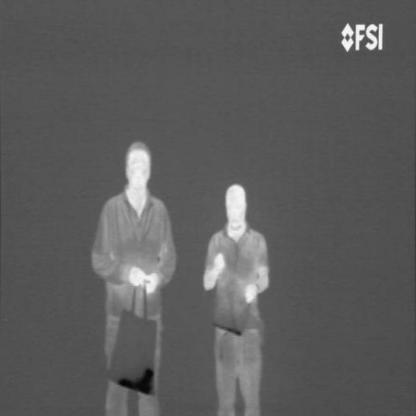weapon: (117, 363, 155, 401)
